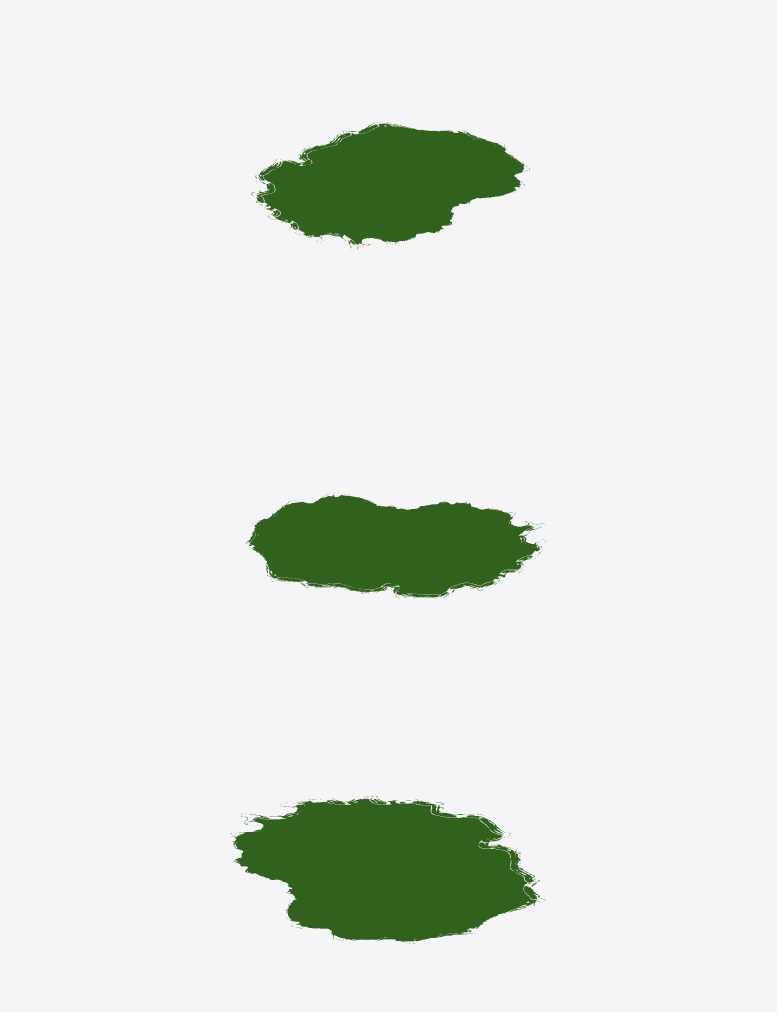
Rendered from poured test tube stuff.FBX.
3 views of the same model, one above another, from view 1: azimuth 30°, elevation 25°; view 2: azimuth 150°, elevation 25°; view 3: azimuth 270°, elevation 25° (orthographic). The views are drawn at different scales.
Visible parts, largest first — view 1: poured test tube stuff; view 2: poured test tube stuff; view 3: poured test tube stuff.
Boxes of the visible parts, box(x1,y1,x2,y2) form: poured test tube stuff: box(251, 122, 529, 249); poured test tube stuff: box(246, 493, 545, 598); poured test tube stuff: box(231, 796, 545, 943).
Size of the model in its own units: 2.42 by 0 by 3.
